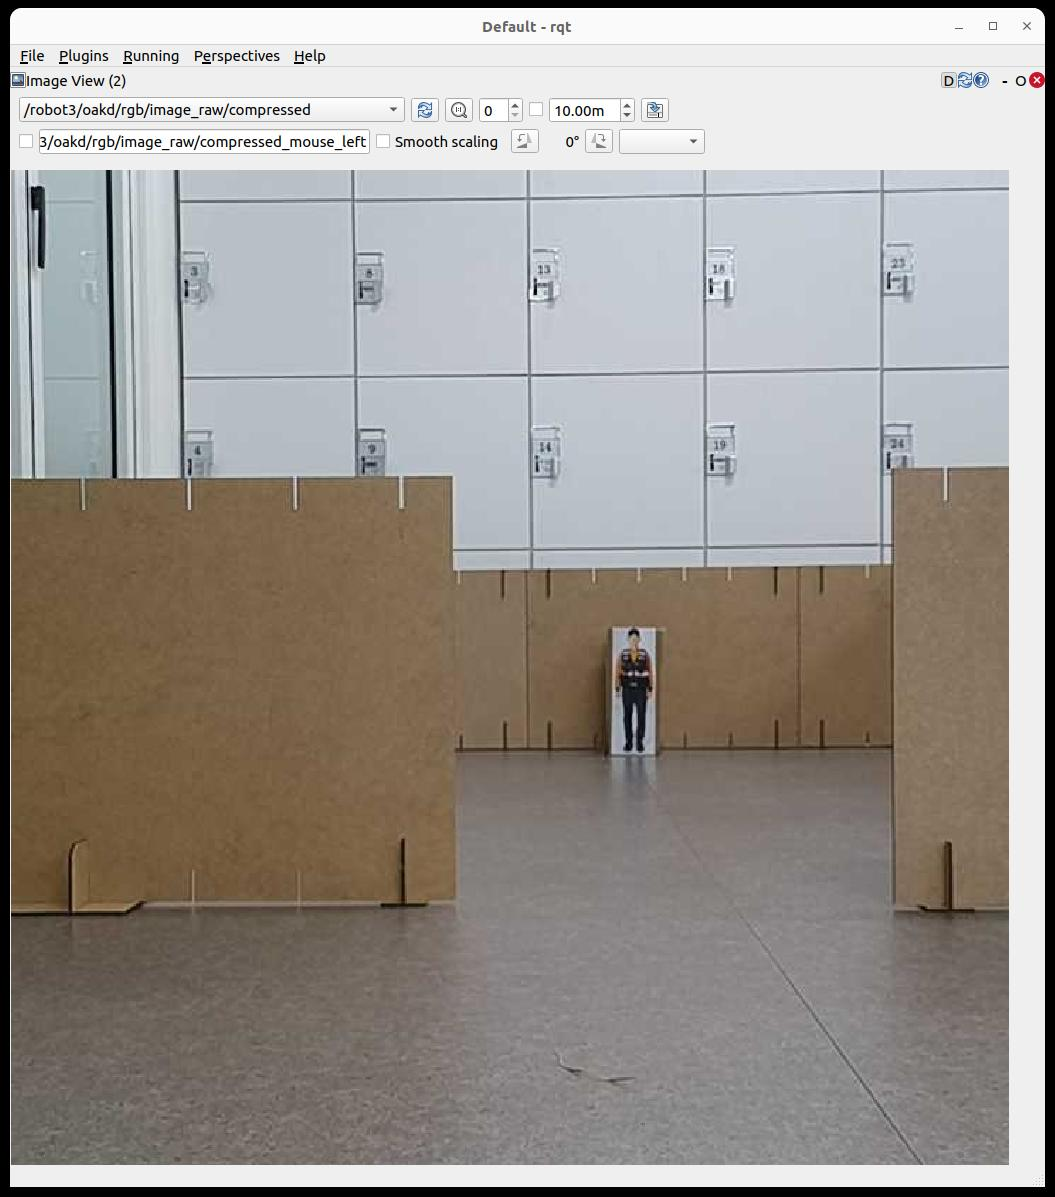Responder: (615, 645, 651, 750)
